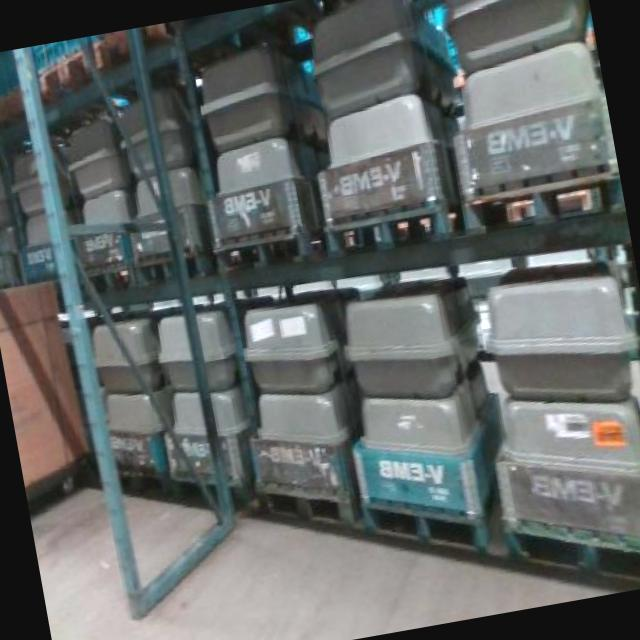pallet: (509, 481, 640, 608), (446, 163, 627, 249), (371, 472, 497, 580), (234, 454, 352, 550), (333, 201, 446, 260), (210, 226, 320, 279)
